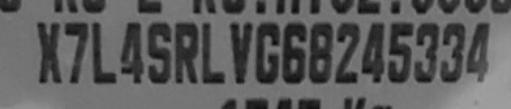letter: (331, 21, 366, 86), (384, 22, 416, 85), (33, 19, 64, 84), (251, 20, 282, 85), (279, 21, 310, 86), (90, 19, 120, 86), (225, 20, 255, 85), (171, 21, 201, 86), (198, 21, 228, 86), (464, 22, 495, 83), (143, 22, 173, 85), (438, 23, 470, 82), (306, 20, 334, 87), (411, 22, 441, 83), (358, 23, 388, 84), (63, 19, 91, 84), (117, 21, 145, 86)
